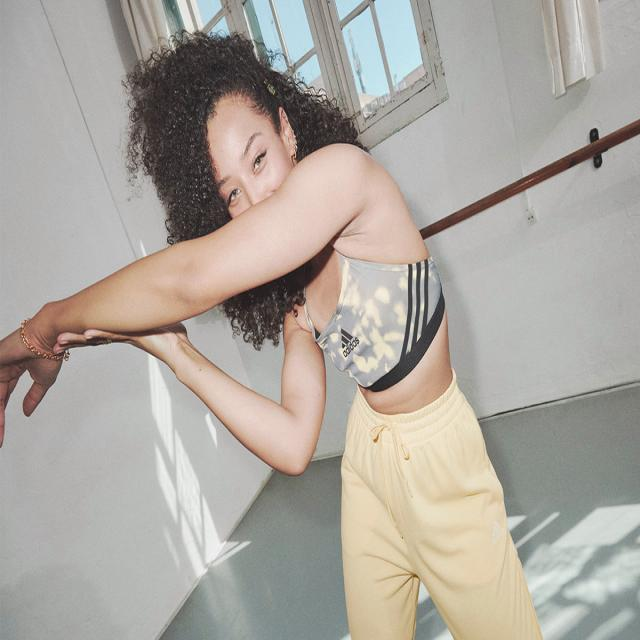adult: (0, 29, 542, 640)
